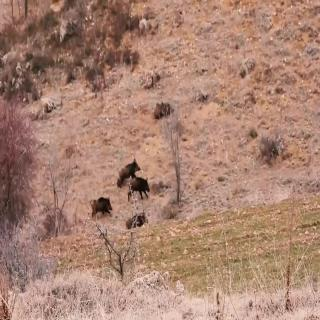Pig: (88, 189, 116, 230), (114, 168, 151, 194), (126, 166, 152, 200)
